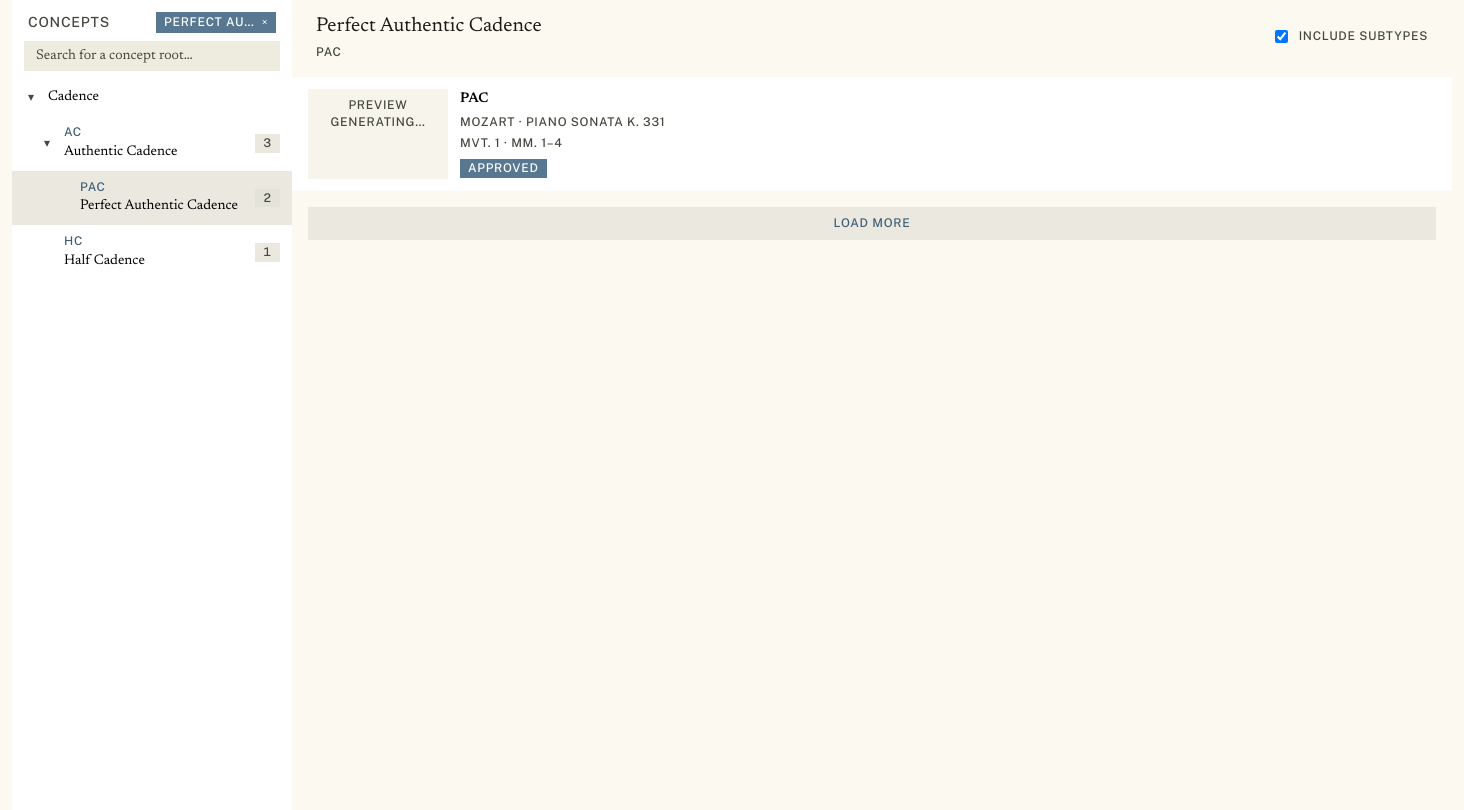
Test case: FragmentBrowser — fragment list › appends the next page when Load more is clicked
Click the button "Load more" at (872, 223), box x1=308 y1=207 x2=1436 y2=240
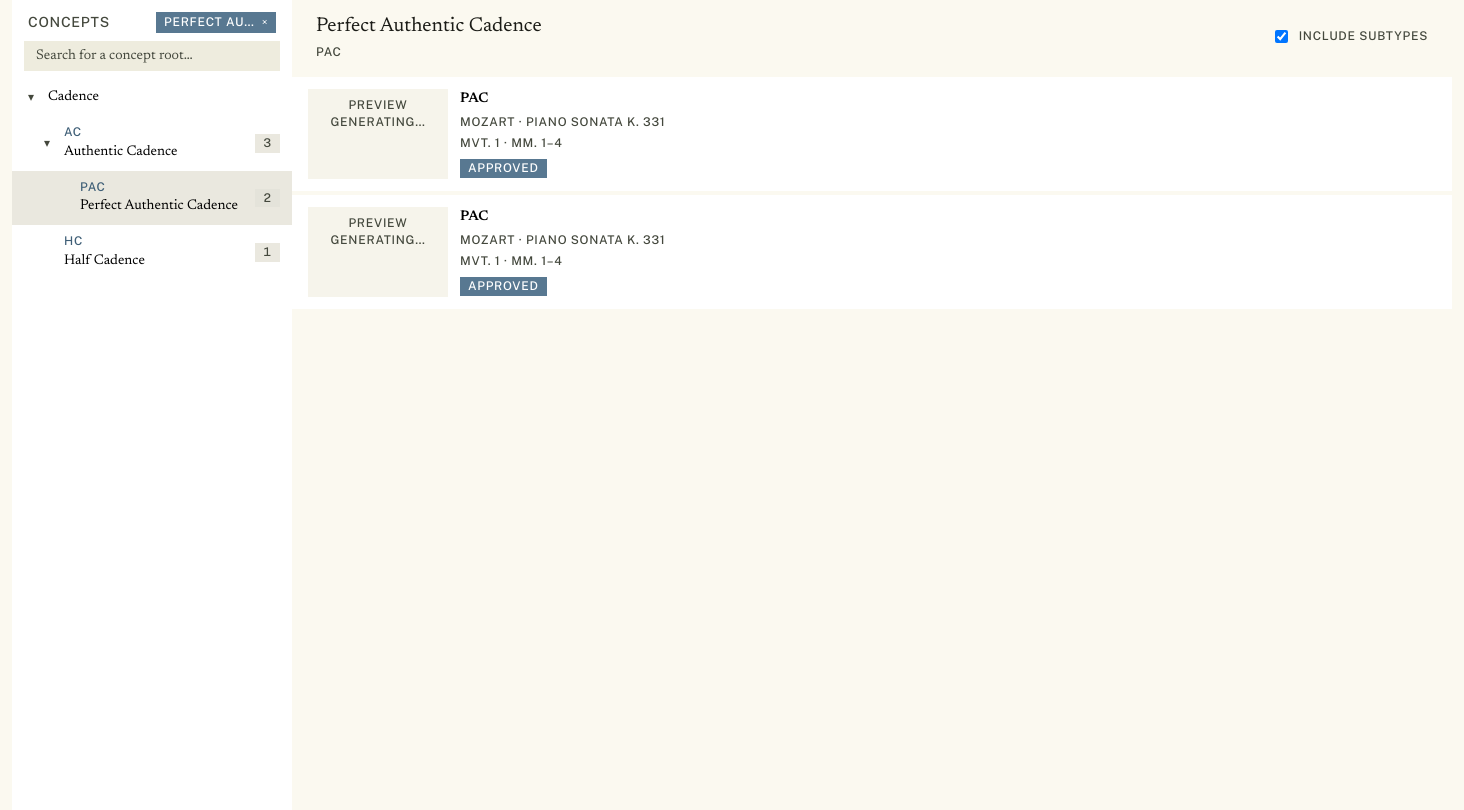
Check: the number of buttons named "open fragment" is 2, box x1=292 y1=77 x2=1452 y2=191; x1=292 y1=195 x2=1452 y2=309
